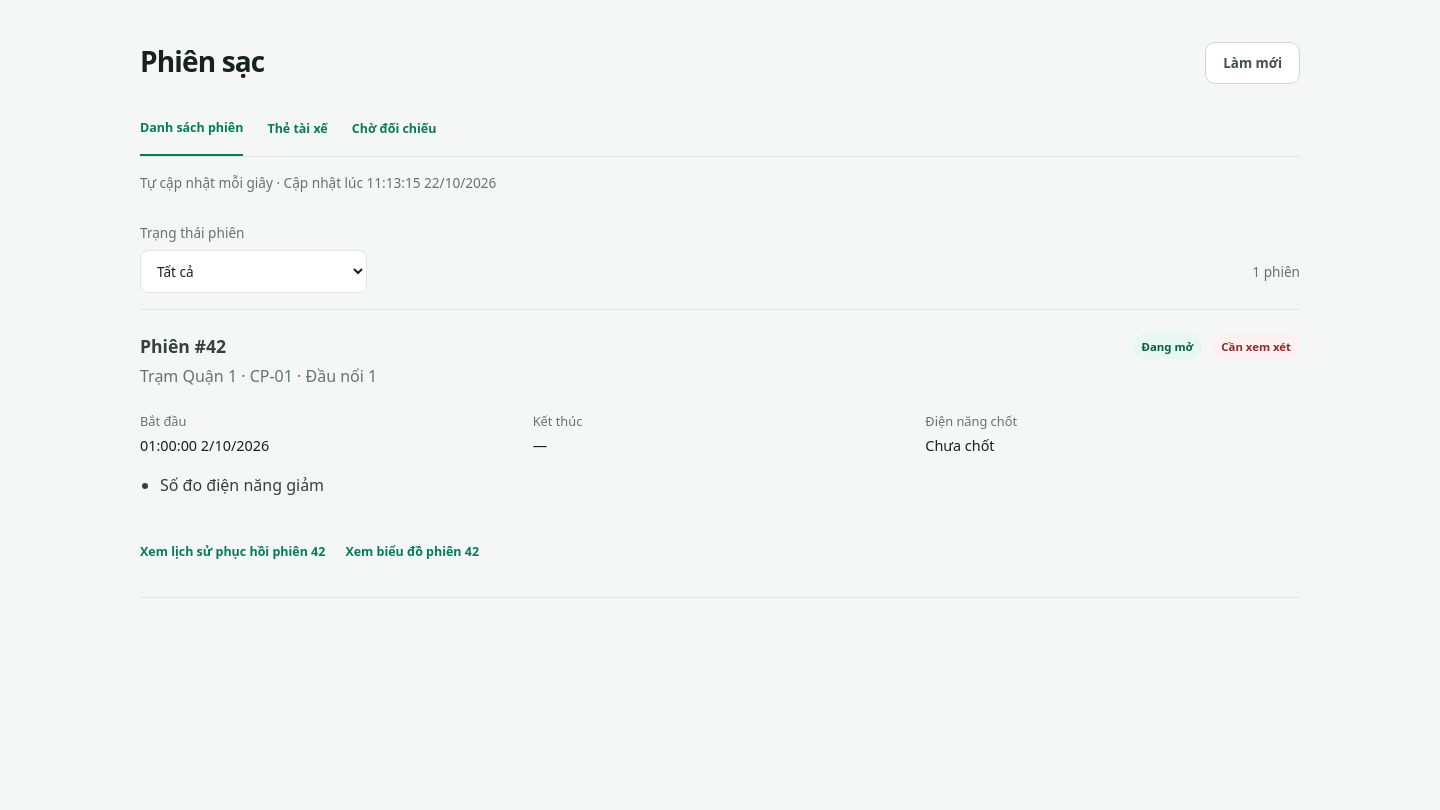
Scenario: ChargingSessionsPage › shows history loading errors and retries
Expected: the heading "Phiên #42" is shown, [140, 334, 226, 358]
Click the button "Xem lịch sử phục hồi phiên 42".
click(233, 551)  # box [140, 529, 325, 573]
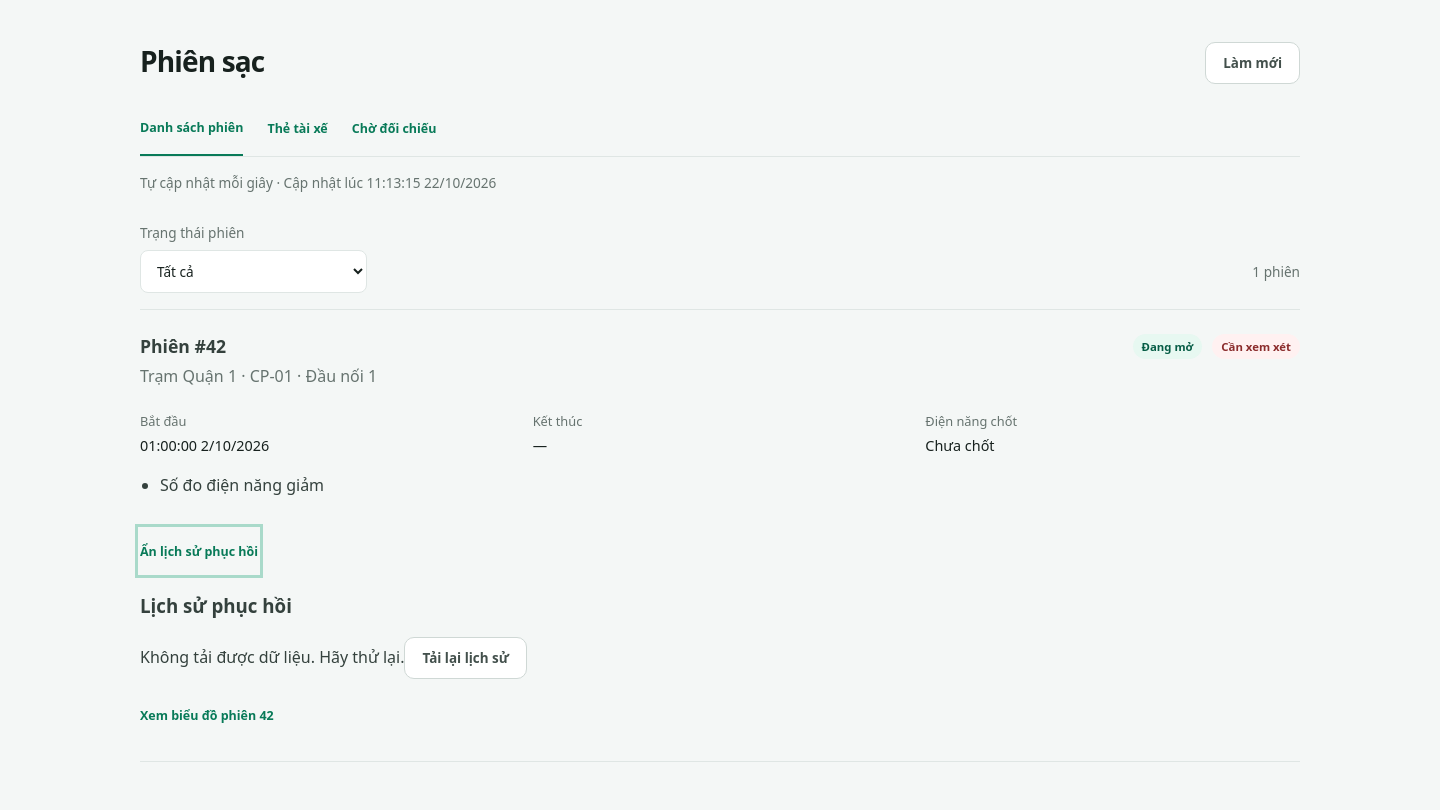
Result: the button "Tải lại lịch sử" is shown
Click the button "Tải lại lịch sử".
click(466, 658)  # box [404, 637, 527, 679]
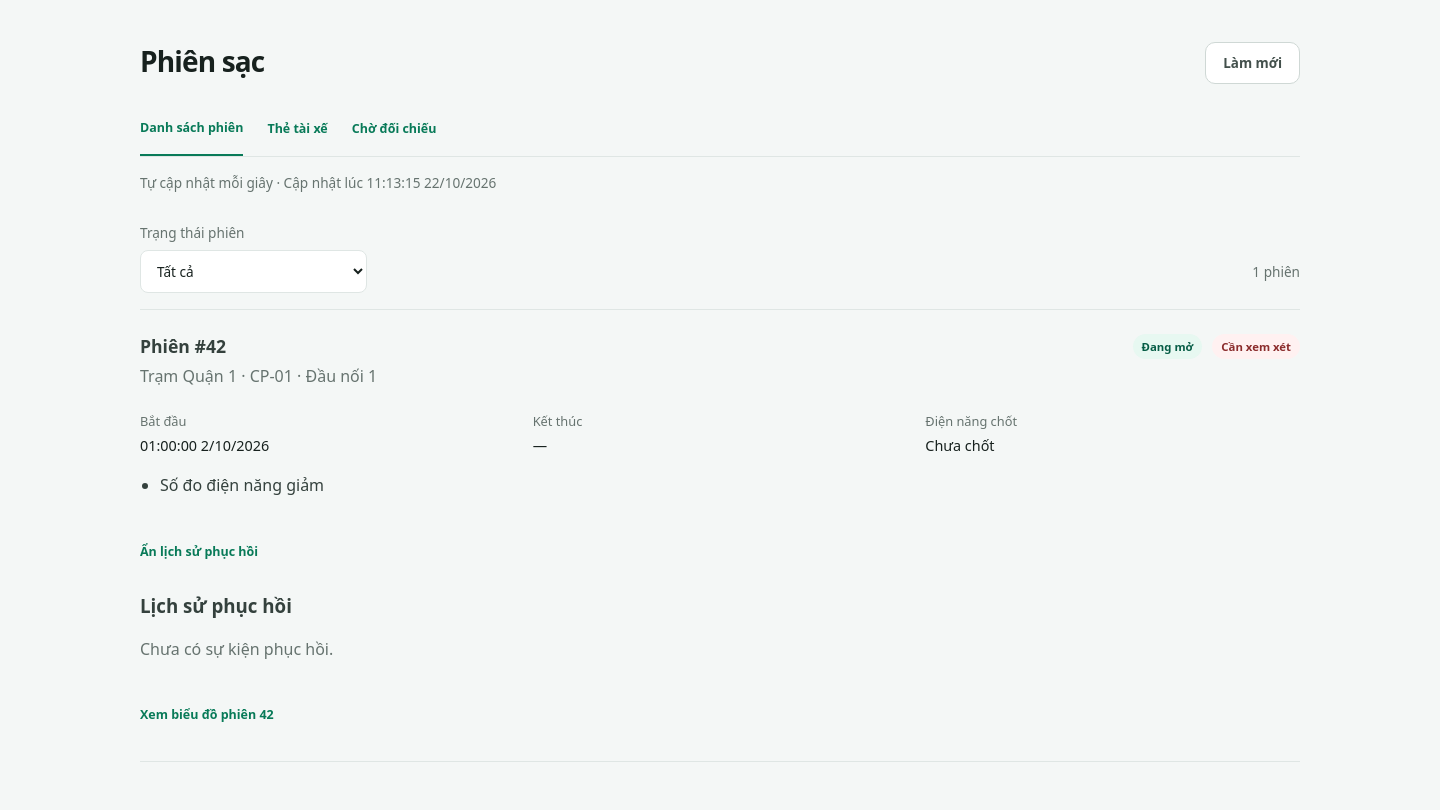
Result: the text "Chưa có sự kiện phục hồi." is shown at [140, 638, 333, 660]
